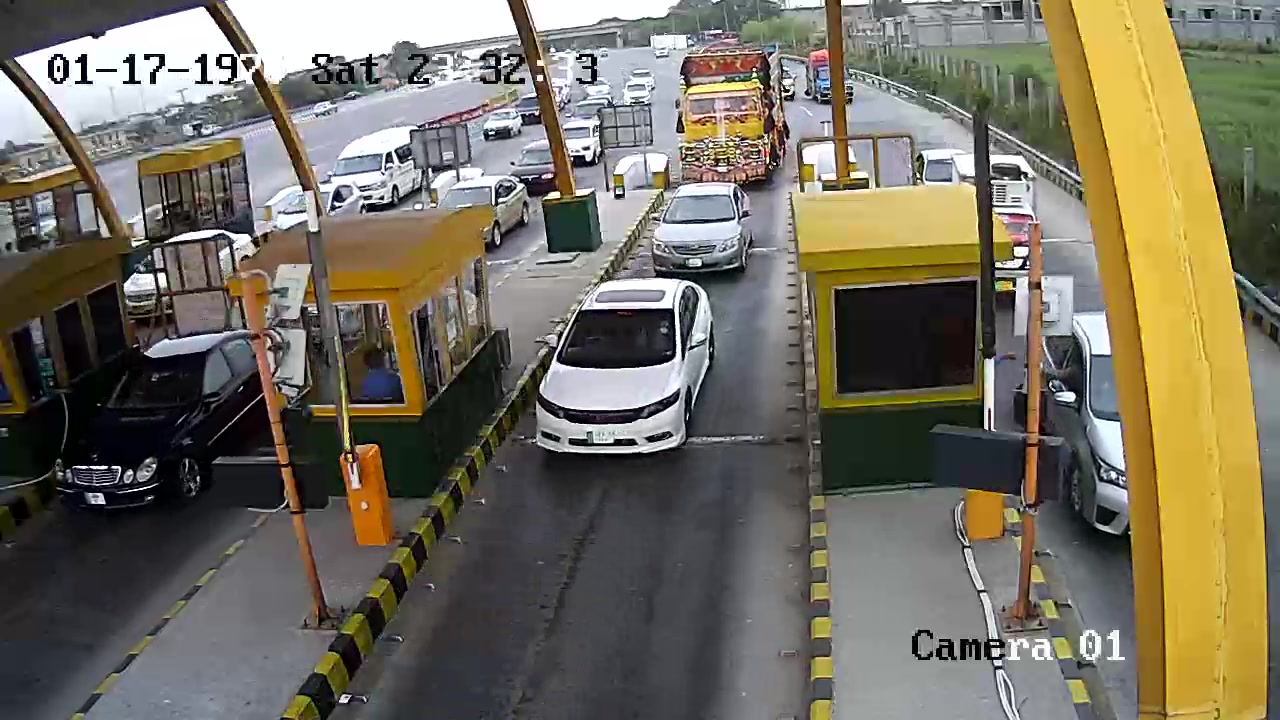F1: (526, 274, 722, 473), (644, 175, 769, 278)
